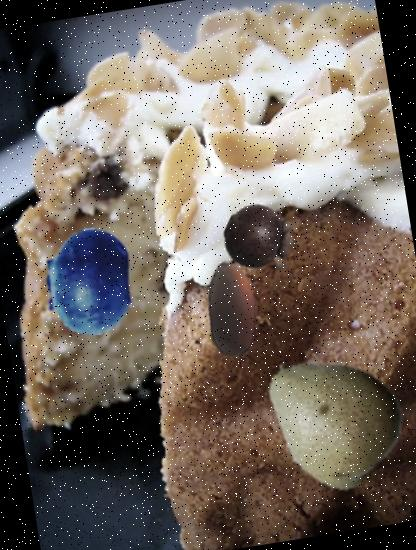Hazelnut: (178, 253, 288, 364)
Huckleberry: (28, 221, 150, 343)
Mangostan: (219, 197, 302, 281)
Pear: (246, 332, 413, 499)
